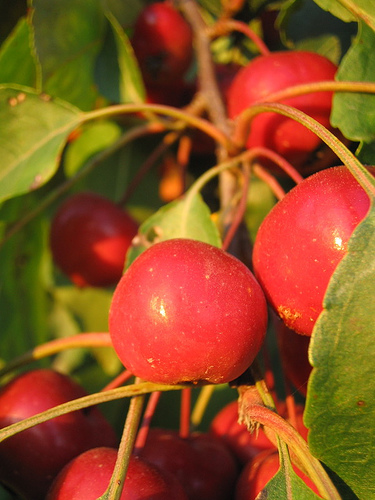apple: (112, 235, 274, 386)
